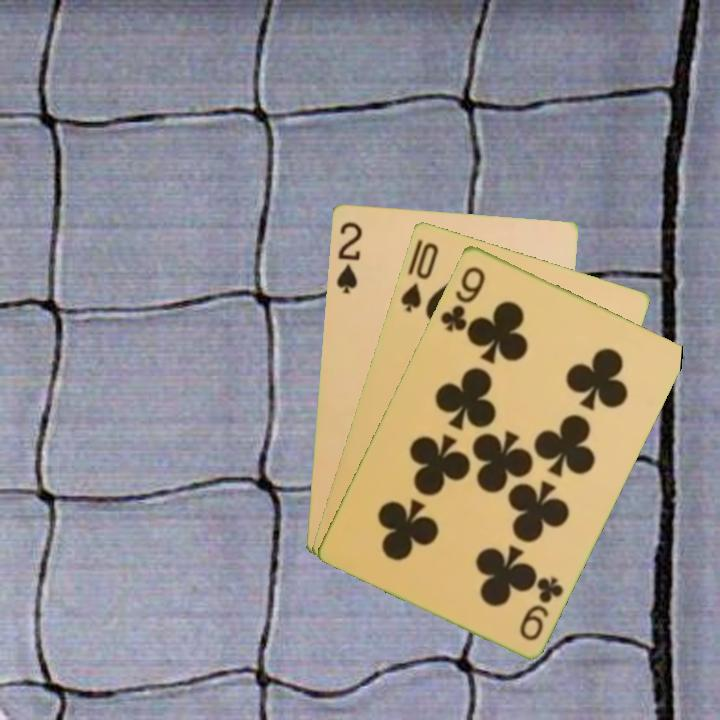10s: (396, 238, 441, 315)
2s: (332, 218, 365, 296)
9c: (436, 262, 488, 335), (515, 573, 566, 644)
